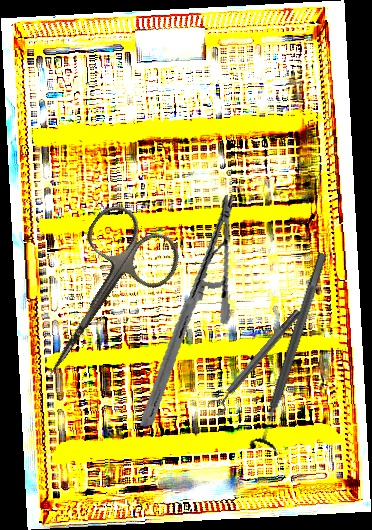Fixation Ring: (246, 248, 339, 457), (204, 304, 308, 419)
Iris Scissors: (8, 197, 190, 401)
Needle Holder: (106, 193, 270, 427)
